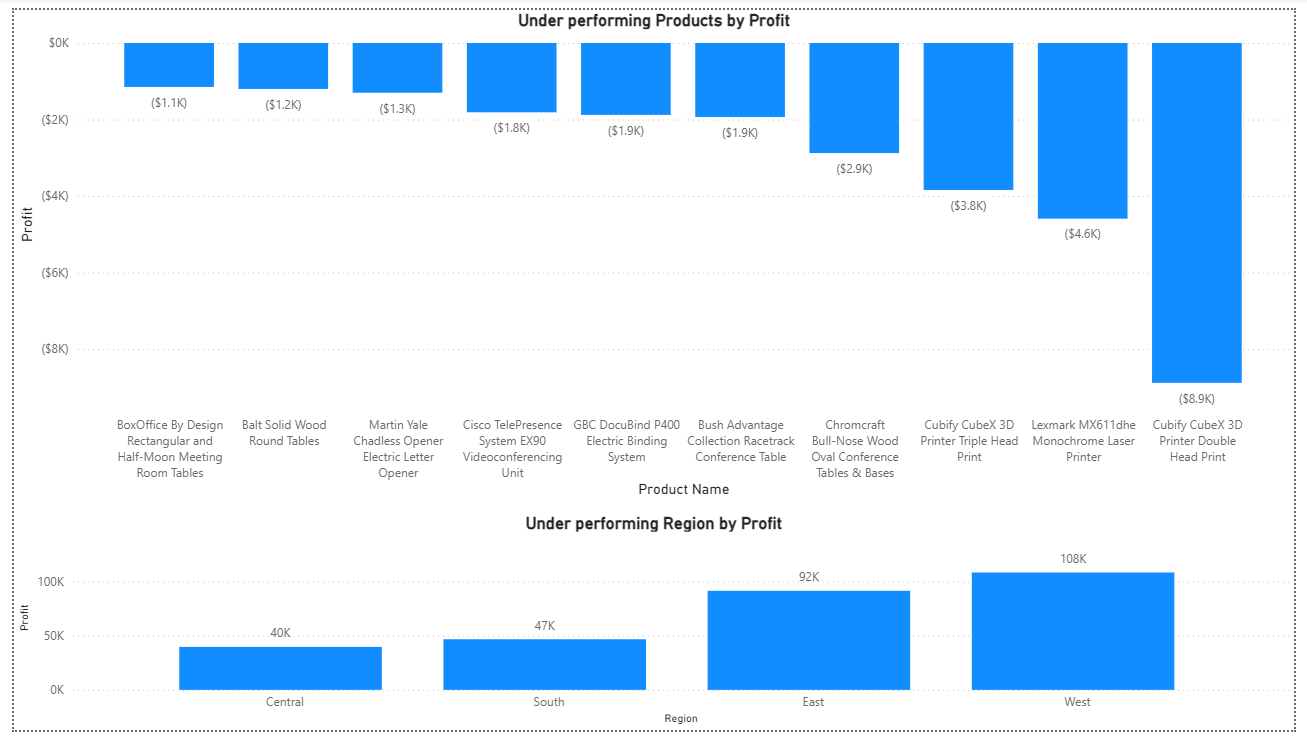

The page's visual inventory and layout, read from the dashboard file:
{"tool":"powerbi","page":{"name":"underperforming products or regions","canvas":[1280,720],"ordinal":3},"visuals":[{"type":"lineStackedColumnComboChart","title":"Under performing Products by Profit","fields":{"Category":["Orders.Product Name"],"Y":["Sum(Orders.Profit)"]},"box":[0,0,1280.3,492.6],"z":0},{"type":"columnChart","title":"Under performing Region by Profit","fields":{"Category":["Orders.Region"],"Y":["Sum(Orders.Profit)"]},"box":[0,502.6,1280,217.4],"z":1000}]}

Visuals, with their boxes in screenshot pixels (x1, y1, x2, y2), scaled from the page's 1280x720 canvas onto the 1307x743 screenshot:
"Under performing Products by Profit" lineStackedColumnComboChart: BBox(0, 0, 1306, 508)
"Under performing Region by Profit" columnChart: BBox(0, 519, 1306, 742)
